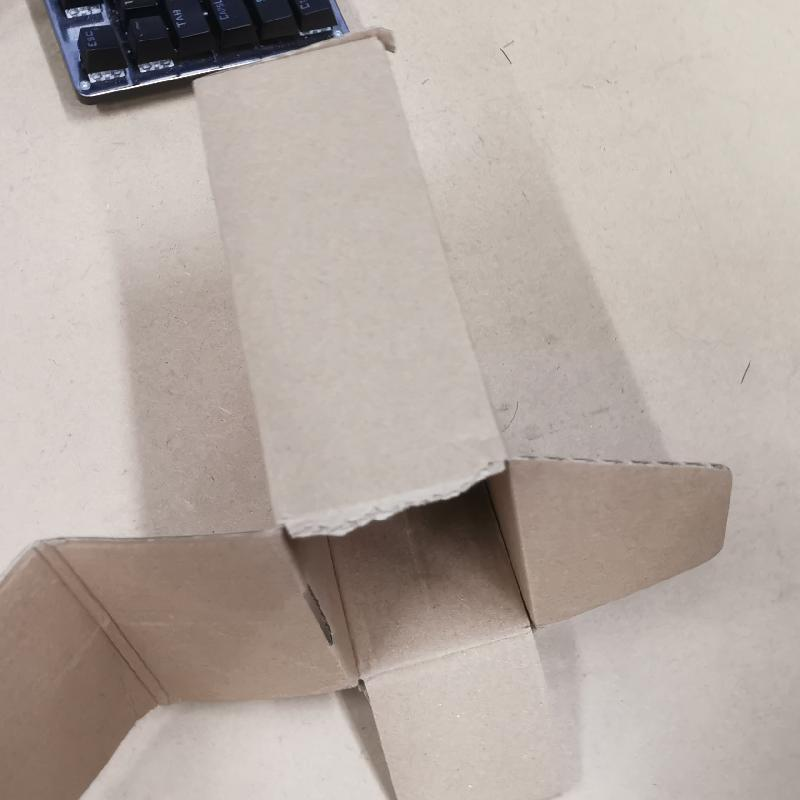boxes: (38, 42, 736, 800)
